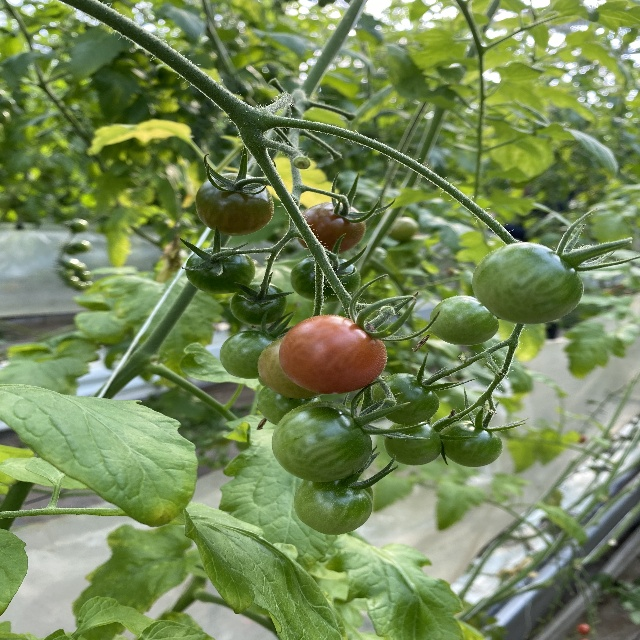l_fully_ripened: (277, 315, 387, 394), (294, 201, 366, 253)
l_green: (470, 242, 584, 324), (272, 401, 372, 483), (195, 171, 275, 236), (294, 477, 375, 535), (289, 253, 362, 303), (371, 373, 441, 424), (430, 294, 499, 345), (186, 246, 255, 294), (438, 419, 504, 468), (220, 330, 279, 378), (383, 420, 443, 466), (231, 281, 289, 325), (257, 386, 318, 426)
l_half_ripened: (257, 337, 327, 399)
